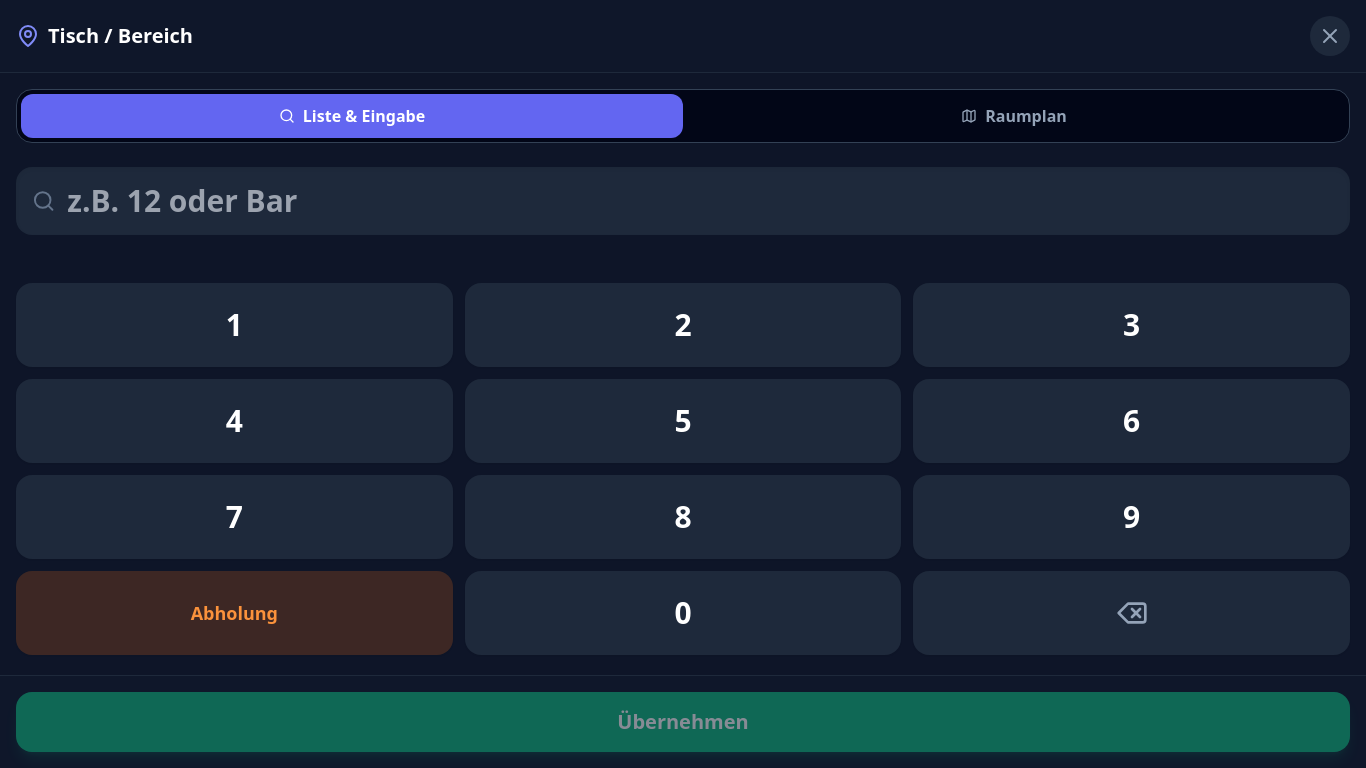
it: TableSelectionModal – Raumplan › lädt den Raumplan bei einem unbekannten Nachrichtentyp (z. B. dem Herzschlag aus #186) nicht neu
Click the button "Raumplan". click: (1014, 116)
box: [683,94,1345,138]
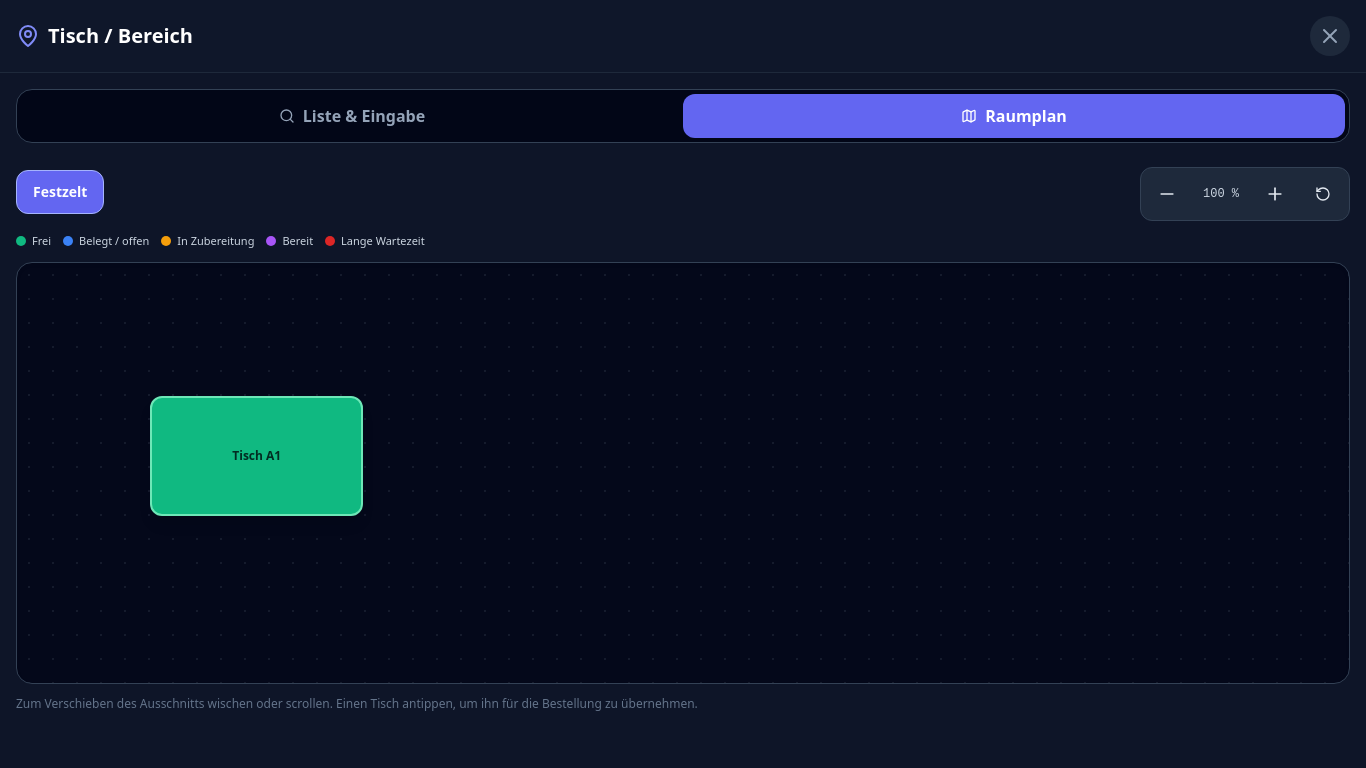
Expected: the button with aria-label "Tisch A1, Frei" is shown, [150,396,363,516]
